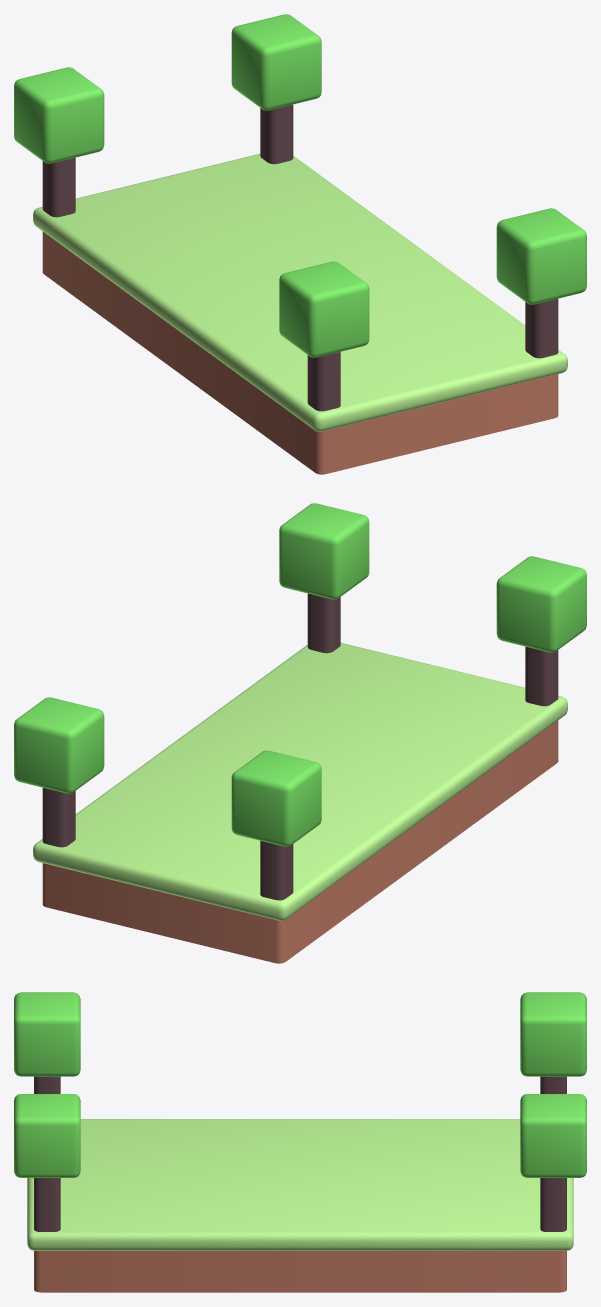
Rendered from GroundSpring.fbx.
3 views of the same model, one above another, from view 1: azimuth 30°, elevation 25°; view 2: azimuth 150°, elevation 25°; view 3: azimuth 270°, elevation 25° (orthographic). The views are drawn at different scales.
Visible parts, largest first — view 1: GroundSpring; view 2: GroundSpring; view 3: GroundSpring.
Boxes of the visible parts, x1=… form: GroundSpring: x1=14, y1=14, x2=586, y2=474; GroundSpring: x1=14, y1=503, x2=586, y2=963; GroundSpring: x1=14, y1=992, x2=586, y2=1292.
Bounding box in the file's own units: 920 × 600 × 1720.
